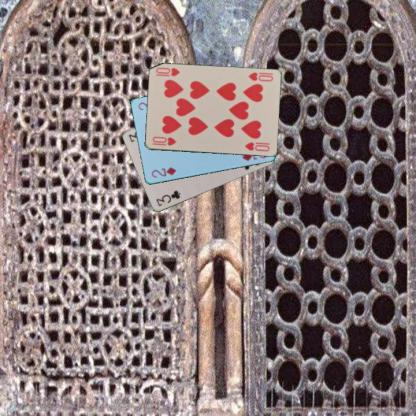10h: (245, 70, 274, 83), (150, 134, 177, 147)
2d: (149, 165, 177, 179)
3c: (154, 188, 181, 207)
